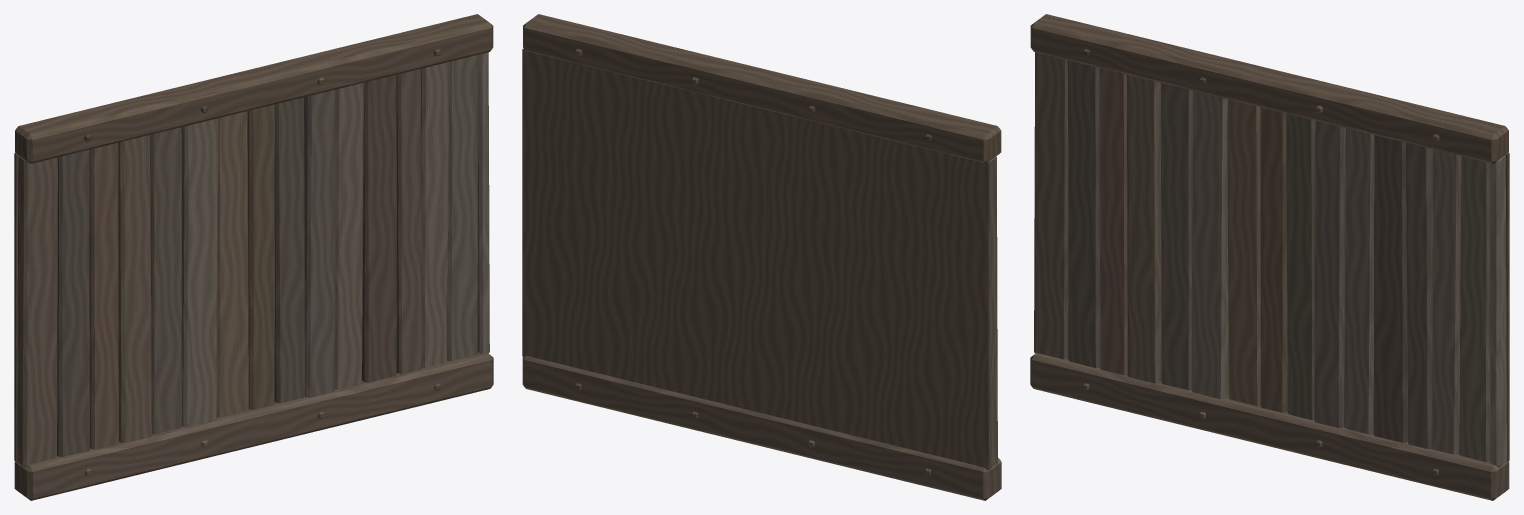
File: kit_longhouse_wall_4m.glb
3 renders of one model, left to right at view 1: azimuth 30°, elevation 25°; view 2: azimuth 150°, elevation 25°; view 3: azimuth 330°, elevation 25°, orthographic.
Parts seen in each view (by area): view 1: kit_longhouse_wall_4m-col; view 2: kit_longhouse_wall_4m-col; view 3: kit_longhouse_wall_4m-col.
Boxes of the visible parts, x1,y1,x2,y2 form: kit_longhouse_wall_4m-col: (14, 14, 493, 500); kit_longhouse_wall_4m-col: (522, 14, 1001, 500); kit_longhouse_wall_4m-col: (1030, 14, 1509, 500).
Size of the model in its own units: 4.01 by 3 by 0.29.
Materials: 1 (1 with a texture image).
